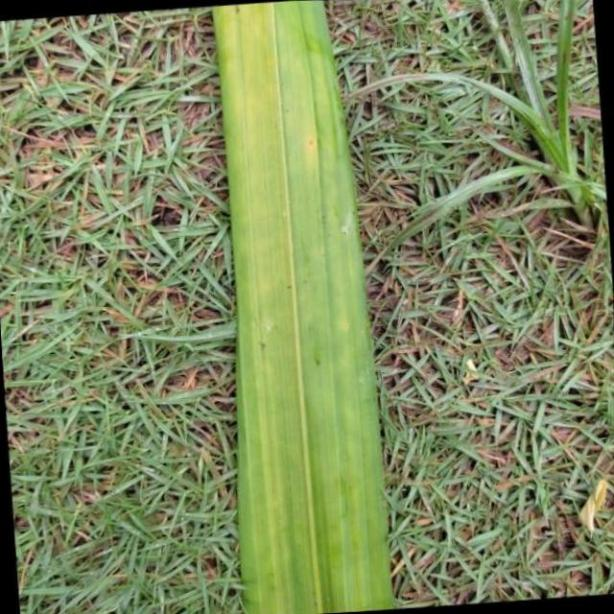nitrogen: (209, 0, 392, 614)
